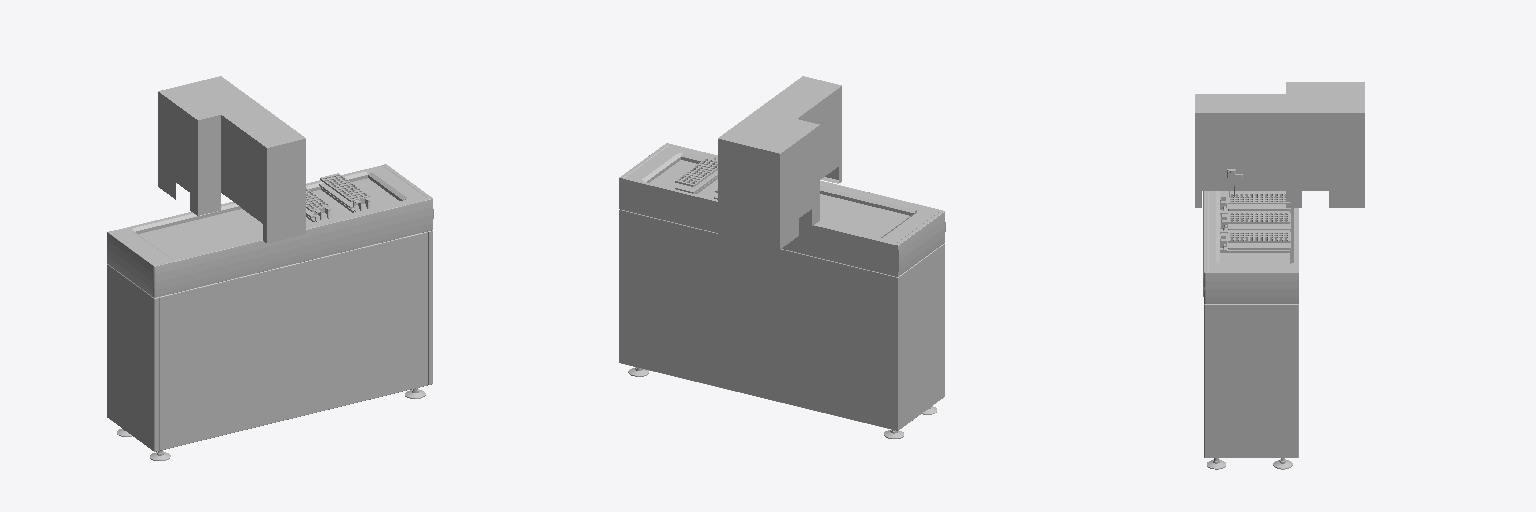
File: Rack Input.obj
3 views of the same model, side by side, from view 1: azimuth 30°, elevation 25°; view 2: azimuth 150°, elevation 25°; view 3: azimuth 270°, elevation 25° (orthographic).
Visible parts, largest first — view 1: object10, object12, object11, object3, object2; view 2: object10, object12, object11, object3, object7; view 3: object10, object12, object2, object3.
Part boxes in pixels (bbox=[...]): object10: bbox=[107, 164, 433, 451]; object12: bbox=[158, 76, 305, 243]; object11: bbox=[144, 182, 395, 253]; object3: bbox=[306, 173, 369, 211]; object2: bbox=[242, 183, 371, 223]; object10: bbox=[619, 143, 945, 430]; object12: bbox=[718, 76, 841, 248]; object11: bbox=[651, 165, 902, 237]; object3: bbox=[675, 158, 717, 192]; object7: bbox=[792, 209, 817, 254]; object10: bbox=[1203, 191, 1298, 457]; object12: bbox=[1195, 82, 1364, 207]; object2: bbox=[1220, 195, 1290, 252]; object3: bbox=[1228, 194, 1290, 242].
Bounding box in the file's own units: 57.8 × 57.87 × 30.52.